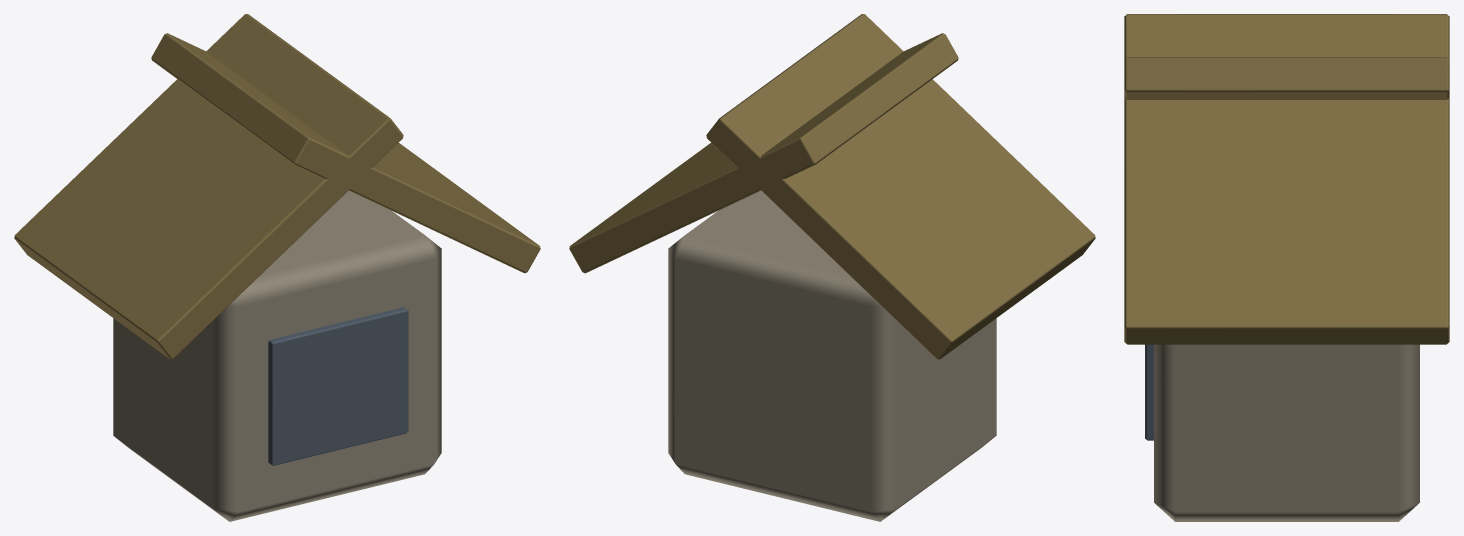
The model's file is village-roof-dormer.01d0bf04.glb.
3 renders of one model, left to right at view 1: azimuth 30°, elevation 25°; view 2: azimuth 150°, elevation 25°; view 3: azimuth 270°, elevation 25°, orthographic. The views are drawn at different scales.
Visible parts, largest first — view 1: body; view 2: body; view 3: body.
Part boxes in pixels (bbox=[...]): body: bbox=[14, 14, 540, 521]; body: bbox=[569, 14, 1095, 521]; body: bbox=[1124, 14, 1449, 521].
Bounding box in the file's own units: 0.8402 × 0.8071 × 0.55.
